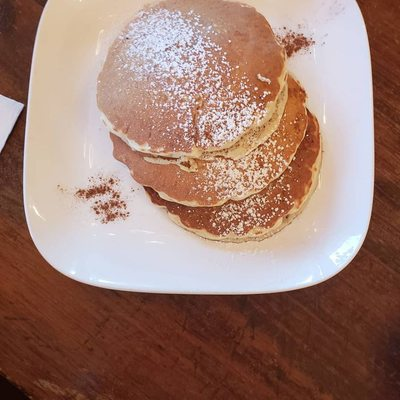soup: (96, 1, 324, 243)
